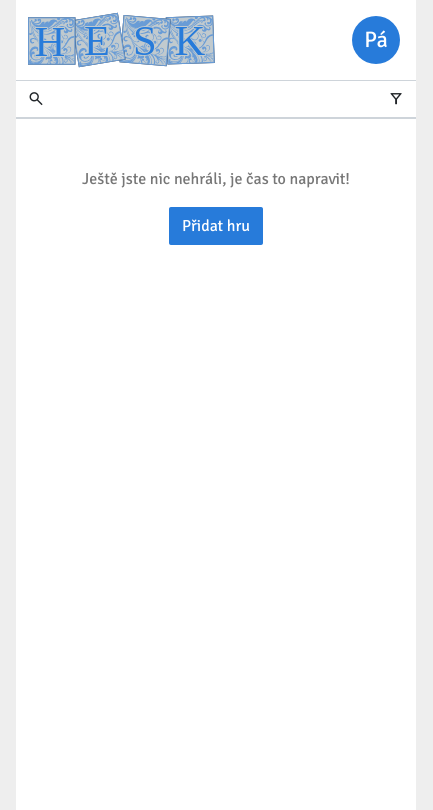
Test case: App gating › closes the menu when the item of the current page is clicked (the address does not change)
Expected: the search field named "Hledat hru" is shown, [16,80,416,118]
What coordinates should you click on to do the following:
click the button with aria-label "Menu – Pátek"
I would click on:
 (376, 40)
Its box is [352,16,400,64].
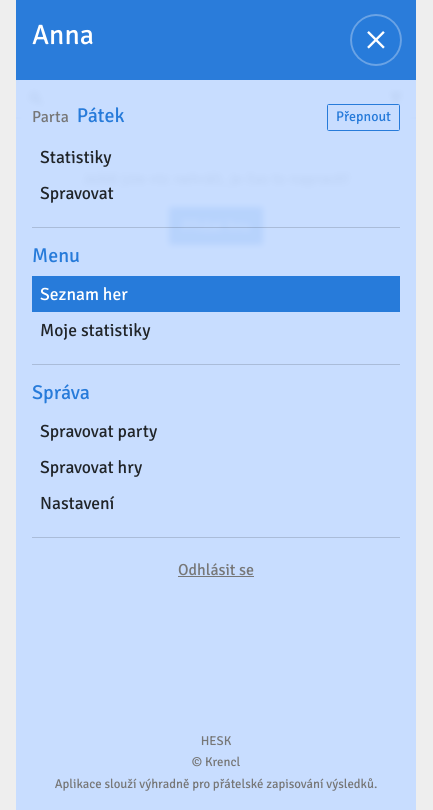
What coordinates should you click on to do the following:
click the link "Seznam her"
I would click on:
 (84, 294)
Its box is [32,276,400,312].
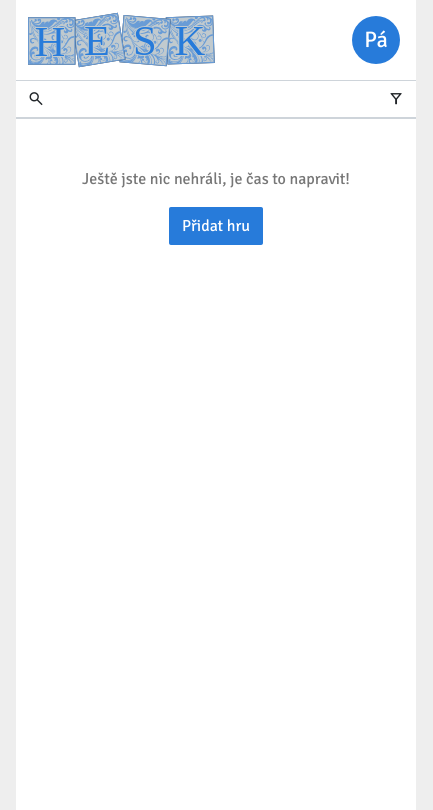
Now the link "Seznam her" is gone
Now the button with aria-label "Menu – Pátek" is collapsed, box [352,16,400,64]
